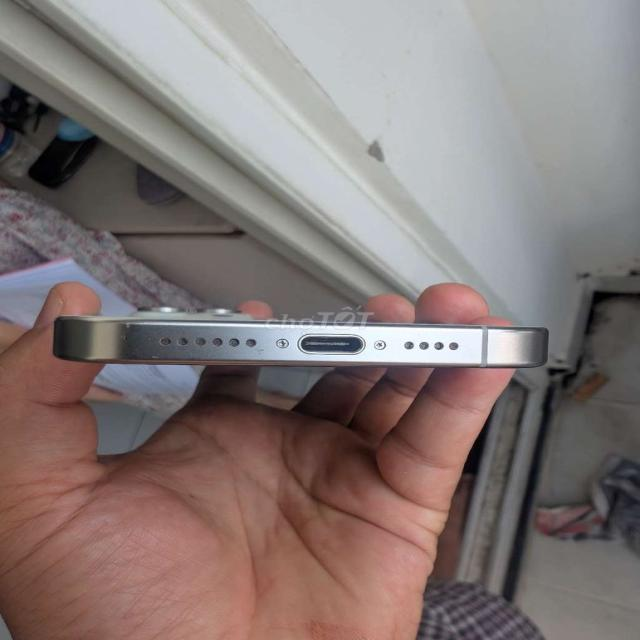gen_15: (36, 284, 576, 414)
